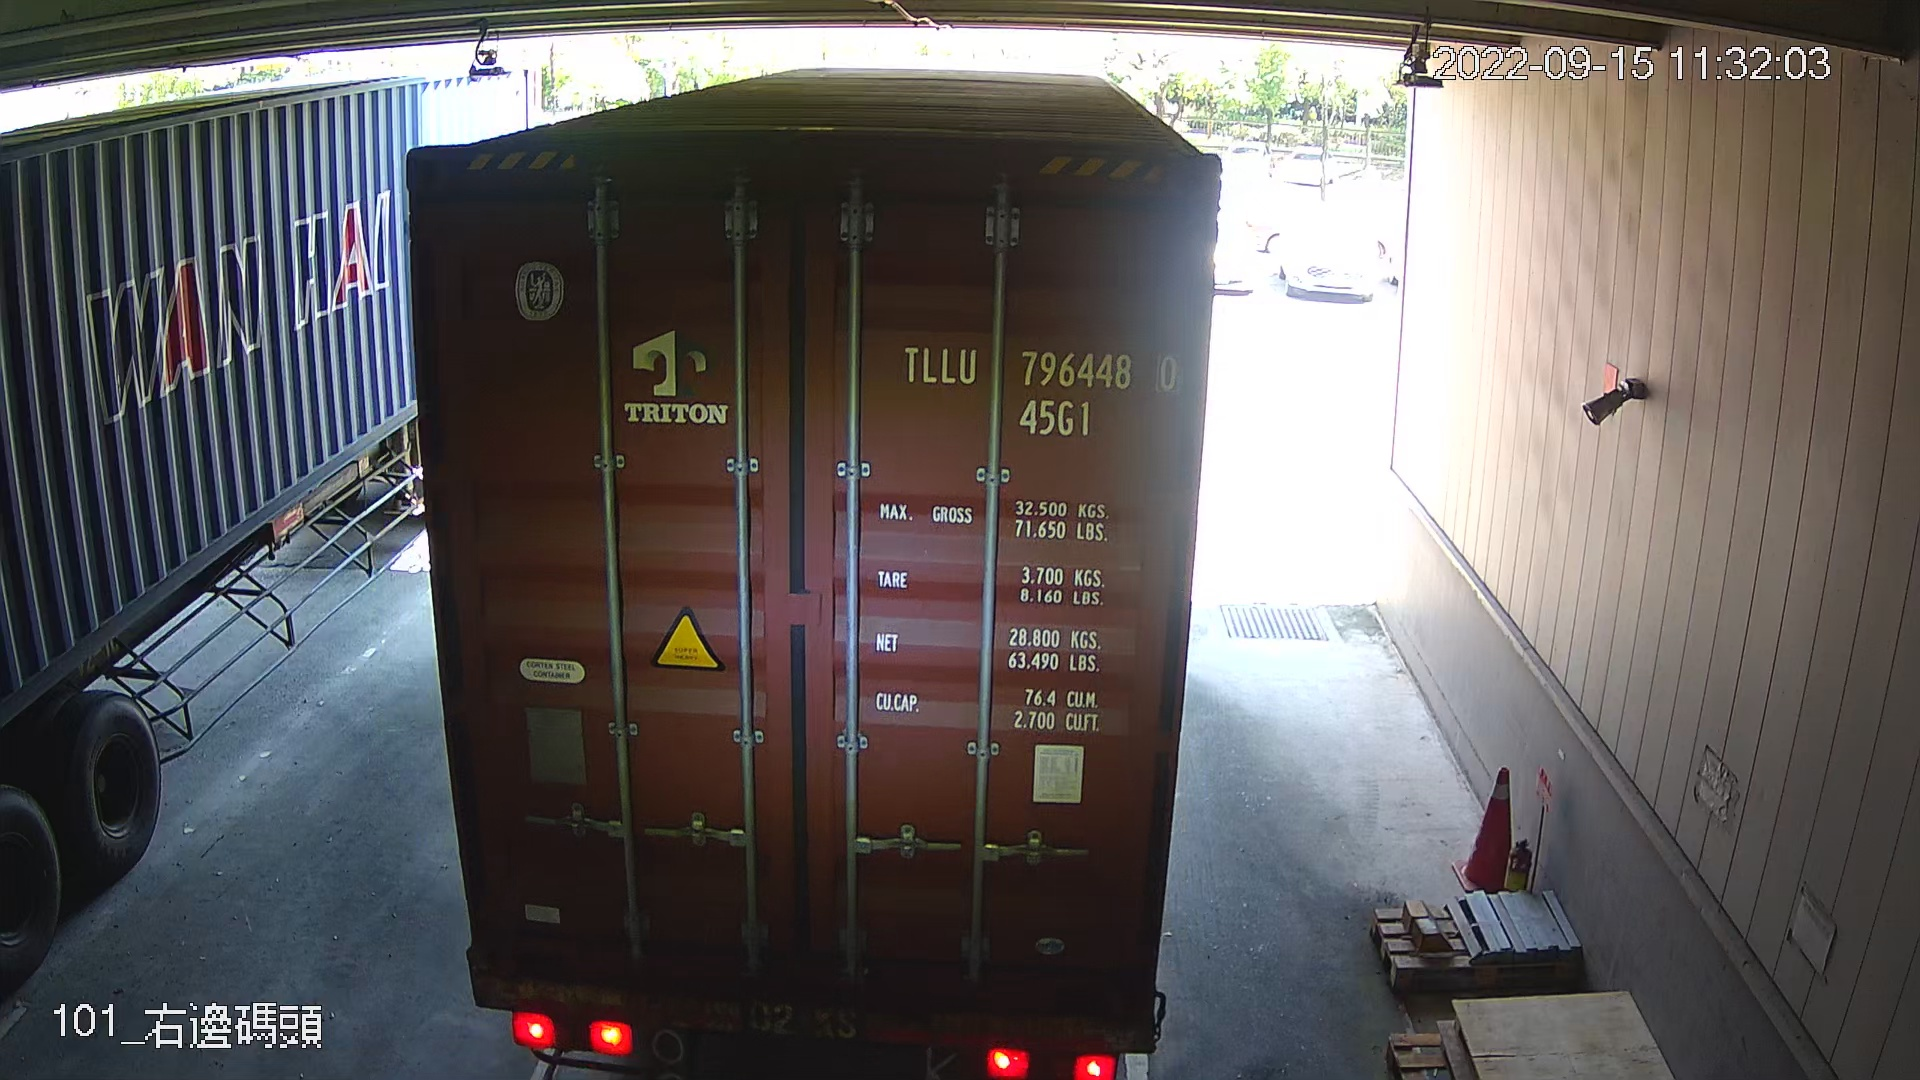container: (894, 342, 1182, 444)
